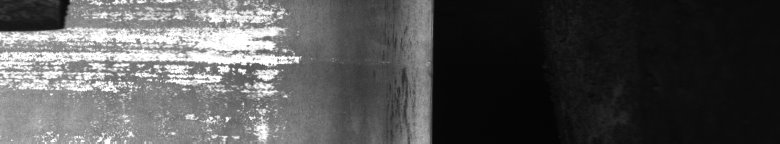kb: (4, 4, 312, 136)
